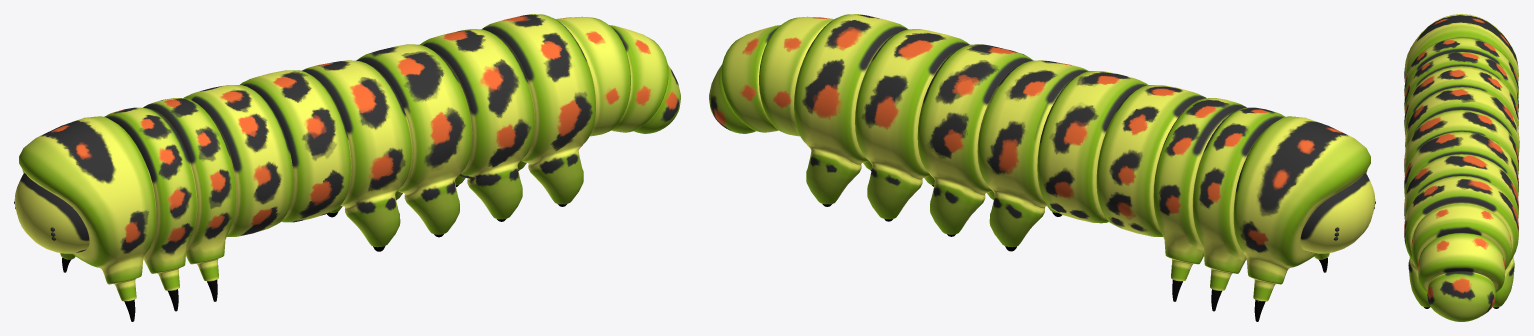
File: Ulat.glb
3 renders of one model, left to right at view 1: azimuth 30°, elevation 25°; view 2: azimuth 150°, elevation 25°; view 3: azimuth 270°, elevation 25°, orthographic. The views are drawn at different scales.
Parts seen in each view (by area): view 1: pCylinder29, pCylinder19, pCylinder20, pCylinder18, pCylinder17, pCylinder34, pCylinder4, pCylinder31, pCylinder33, pCylinder10, pSphere7, pCylinder11 (+1 smaller); view 2: pCylinder29, pCylinder19, pCylinder20, pCylinder18, pCylinder17, pCylinder34, pCylinder4, pCylinder31, pCylinder33, pCylinder10, pSphere7, pCylinder11 (+1 smaller); view 3: pCylinder20, pCylinder11, pCylinder10, pCylinder12, pCylinder18, pCylinder34, pCylinder17, pCylinder19, pCylinder29, pCylinder4, pCylinder33, pCylinder31.
Boxes of the visible parts, x1,y1,x2,y2 form: pCylinder29: (19, 116, 156, 321); pCylinder19: (420, 29, 534, 219); pCylinder20: (482, 14, 595, 204); pCylinder18: (356, 44, 472, 234); pCylinder17: (302, 60, 412, 247); pCylinder34: (240, 70, 351, 222); pCylinder4: (183, 85, 293, 236); pCylinder31: (104, 107, 197, 311); pCylinder33: (143, 98, 236, 301); pCylinder10: (555, 16, 630, 136); pSphere7: (14, 173, 89, 253); pCylinder11: (609, 25, 668, 132); pCylinder29: (1233, 116, 1370, 321); pCylinder19: (855, 29, 969, 219); pCylinder20: (794, 14, 907, 204); pCylinder18: (917, 44, 1033, 234); pCylinder17: (977, 60, 1088, 247); pCylinder34: (1037, 71, 1147, 223); pCylinder4: (1096, 85, 1206, 236); pCylinder31: (1192, 107, 1285, 311); pCylinder33: (1153, 98, 1246, 301); pCylinder10: (759, 16, 834, 136); pSphere7: (1300, 173, 1375, 253); pCylinder11: (721, 25, 780, 132); pCylinder20: (1404, 176, 1518, 307); pCylinder11: (1418, 232, 1505, 292); pCylinder10: (1411, 203, 1511, 269); pCylinder12: (1427, 271, 1495, 321); pCylinder18: (1404, 131, 1518, 197); pCylinder34: (1405, 87, 1519, 155); pCylinder17: (1404, 109, 1518, 175); pCylinder19: (1404, 154, 1518, 257); pCylinder29: (1404, 14, 1518, 82); pCylinder4: (1404, 66, 1518, 136); pCylinder33: (1404, 51, 1518, 113); pCylinder31: (1404, 37, 1518, 98).
Bounding box in the file's own units: 0.4276 × 0.1095 × 0.0901.
Materials: 1 (1 with a texture image).
